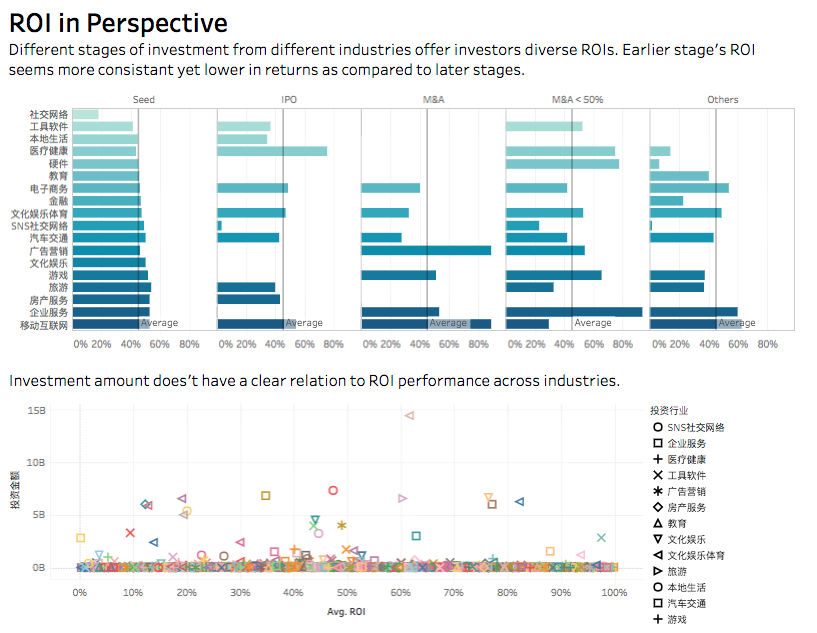

The dashboard page shown, as its layout file describes it:
{"tool":"tableau","page":{"name":"ROI","canvas":[1000,800],"ordinal":3},"visuals":[{"type":"text","box":[0,0,996,124]},{"type":"worksheet","title":"Sheet 20","mark":"Automatic","rows":["投资行业"],"cols":["Calculation_386746633186578435"],"box":[0,124,996,337]},{"type":"text","box":[0,461,996,53]},{"type":"worksheet","title":"Sheet 25","mark":"Automatic","rows":["投资金额"],"cols":["Calculation_386746633186578435"],"box":[0,514,806.3,286]},{"type":"legend","title":"Sheet 25","param":"[federated.0ub7l0q00anu83163d9jd0t0r5fl].[none:投资行业:nk]","box":[806.3,514,189.7,286]}]}

Visuals, with their boxes on the page's 1000x800 design canvas (x1, y1, x2, y2). These are canvas units, not pixel positions in the 817x633 screenshot, which may show the page scaled, cropped or inside an application window:
text: l=0, t=0, r=996, b=124
"Sheet 20" worksheet: l=0, t=124, r=996, b=461
text: l=0, t=461, r=996, b=514
"Sheet 25" worksheet: l=0, t=514, r=806, b=800
"Sheet 25" legend: l=806, t=514, r=996, b=800
